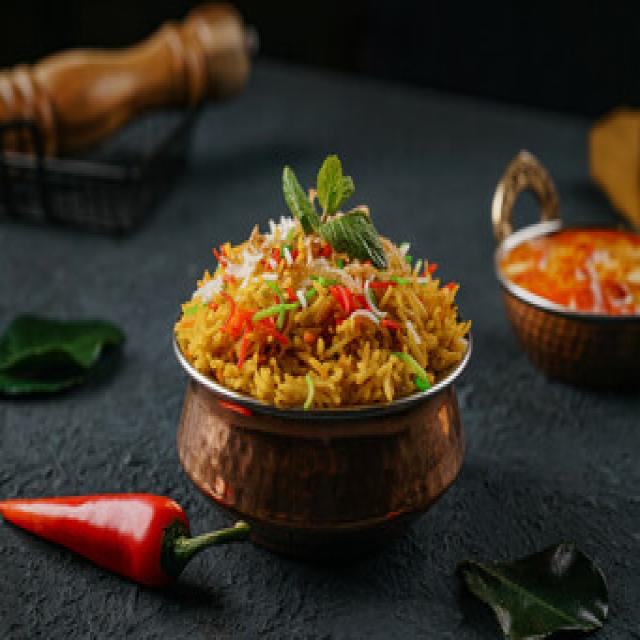BIRIYANI: (181, 218, 465, 401)
EGG: (175, 213, 467, 408), (298, 157, 353, 216)
